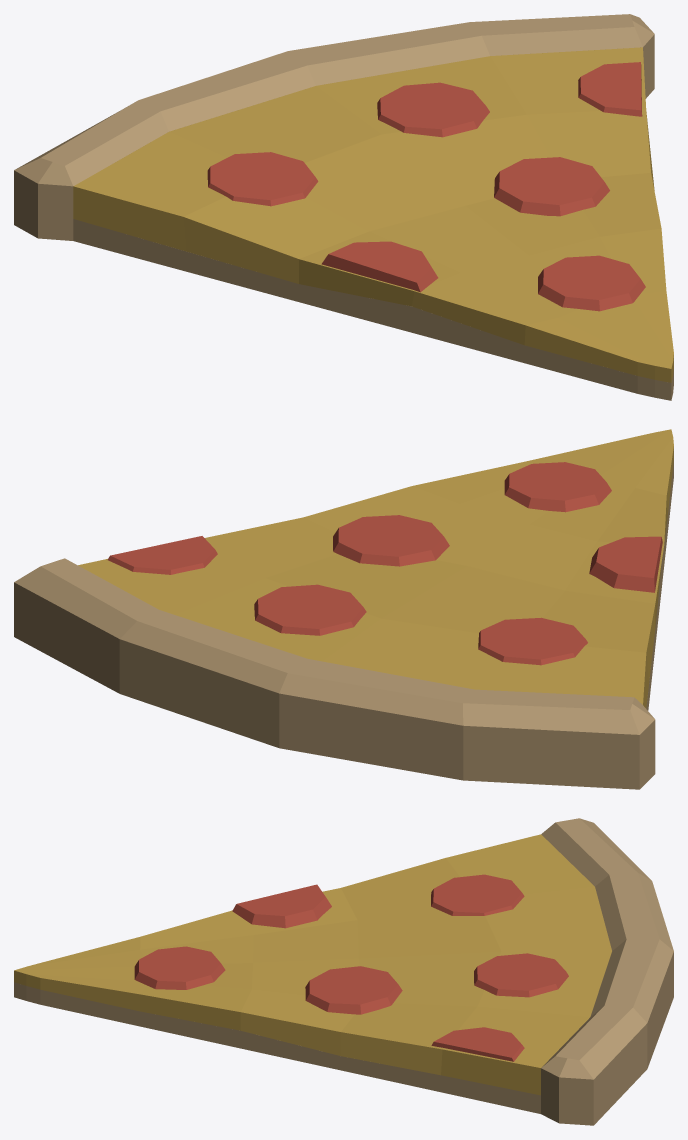
Rendered from Pizza_Slice.glb.
The picture shows the model from 3 angles, top to bottom: view 1: azimuth 30°, elevation 25°; view 2: azimuth 150°, elevation 25°; view 3: azimuth 270°, elevation 25°; orthographic projection. The views are drawn at different scales.
Visible parts, largest first — view 1: Pizza_Slice; view 2: Pizza_Slice; view 3: Pizza_Slice.
Part boxes in pixels (bbox=[...]): Pizza_Slice: bbox=[14, 14, 673, 400]; Pizza_Slice: bbox=[14, 429, 673, 789]; Pizza_Slice: bbox=[14, 818, 673, 1125].
Bounding box in the file's own units: 1.07 × 0.1128 × 1.16.
